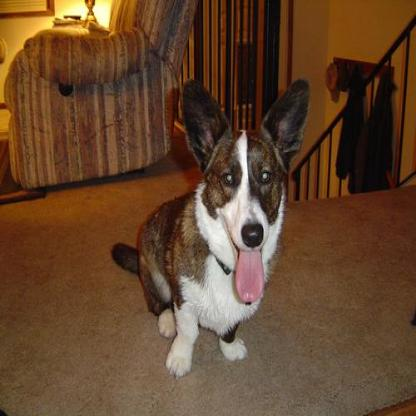Cardigan: (107, 74, 311, 379)
